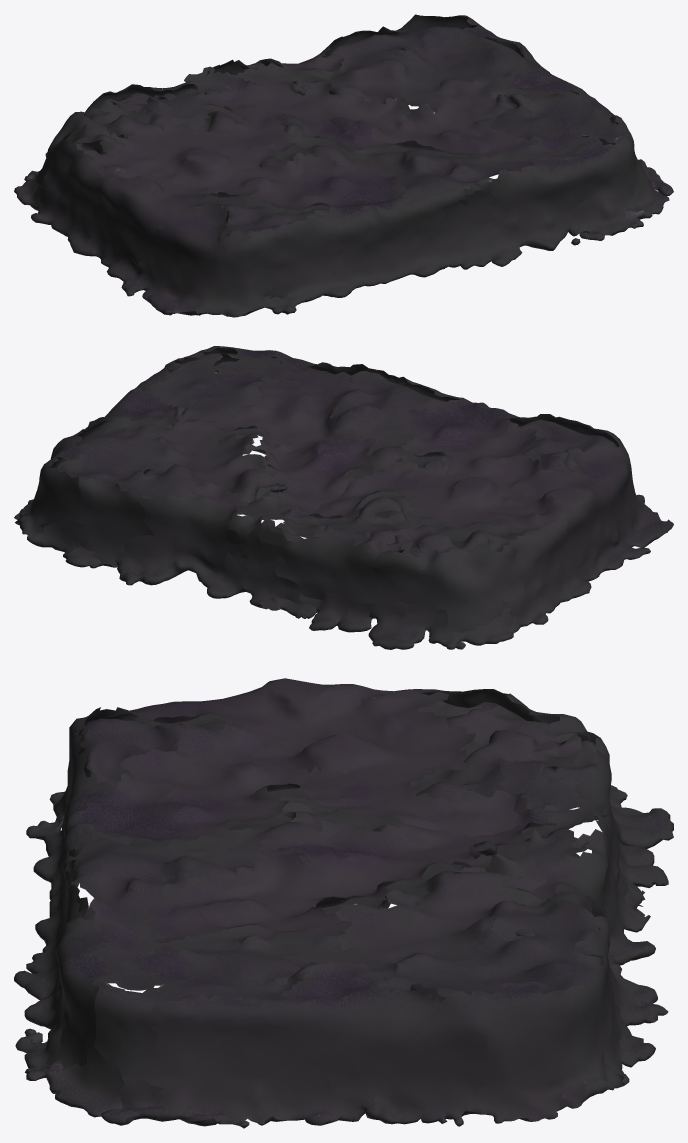
File: soil_plot.glb
The picture shows the model from 3 angles, top to bottom: view 1: azimuth 30°, elevation 25°; view 2: azimuth 150°, elevation 25°; view 3: azimuth 270°, elevation 25°; orthographic projection. The views are drawn at different scales.
Parts seen in each view (by area): view 1: mesh_node; view 2: mesh_node; view 3: mesh_node.
Boxes of the visible parts, x1,y1,x2,y2 form: mesh_node: [14, 14, 673, 317]; mesh_node: [14, 346, 673, 649]; mesh_node: [14, 678, 673, 1128].
Size of the model in its own units: 1.9 by 0.2701 by 1.45.
Materials: 1 (1 with a texture image).
